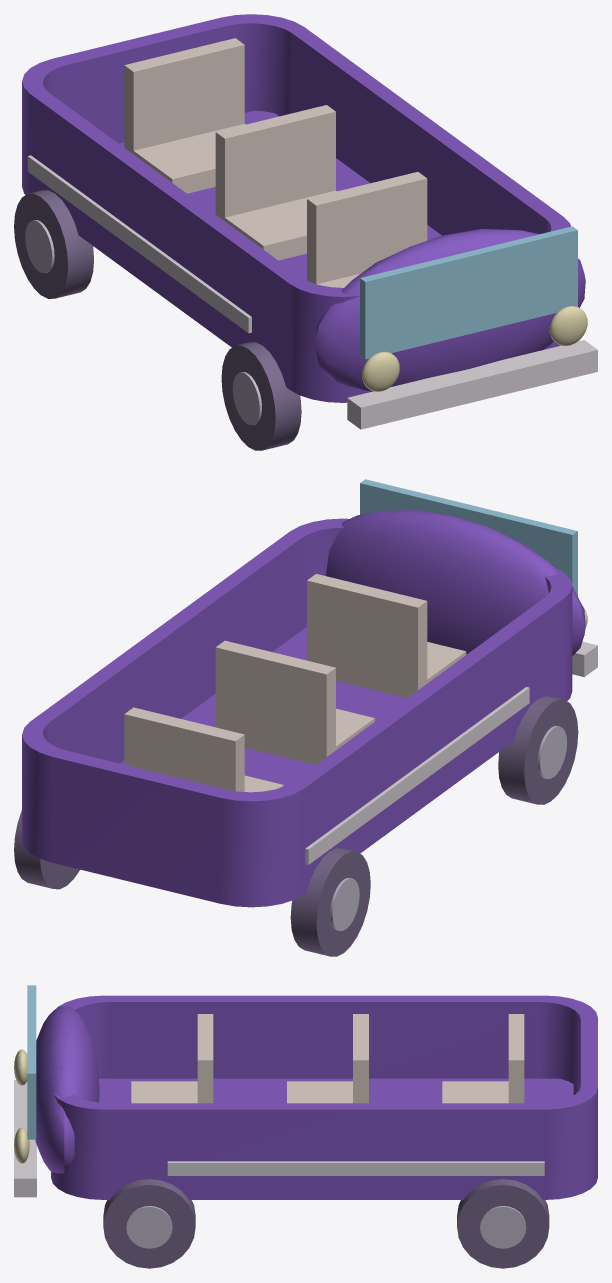
Rendered from Bus_Purple.glb.
3 renders of one model, top to bottom at view 1: azimuth 30°, elevation 25°; view 2: azimuth 150°, elevation 25°; view 3: azimuth 270°, elevation 25°, orthographic. The views are drawn at different scales.
Parts seen in each view (by area): view 1: Body, Wheel_1, Wheel_3; view 2: Body, Wheel_3, Wheel_1, Wheel_4; view 3: Body, Wheel_2, Wheel_4.
Boxes of the visible parts, <box> form: Body: <box>22,14,597,429</box>; Wheel_1: <box>221,342,301,450</box>; Wheel_3: <box>14,190,93,298</box>; Body: <box>22,479,597,907</box>; Wheel_3: <box>290,848,370,956</box>; Wheel_1: <box>498,696,578,804</box>; Wheel_4: <box>14,810,79,889</box>; Body: <box>14,985,597,1199</box>; Wheel_2: <box>103,1179,195,1268</box>; Wheel_4: <box>457,1179,549,1268</box>.
Bounding box in the file's own units: 2.49 × 1.63 × 4.81.
